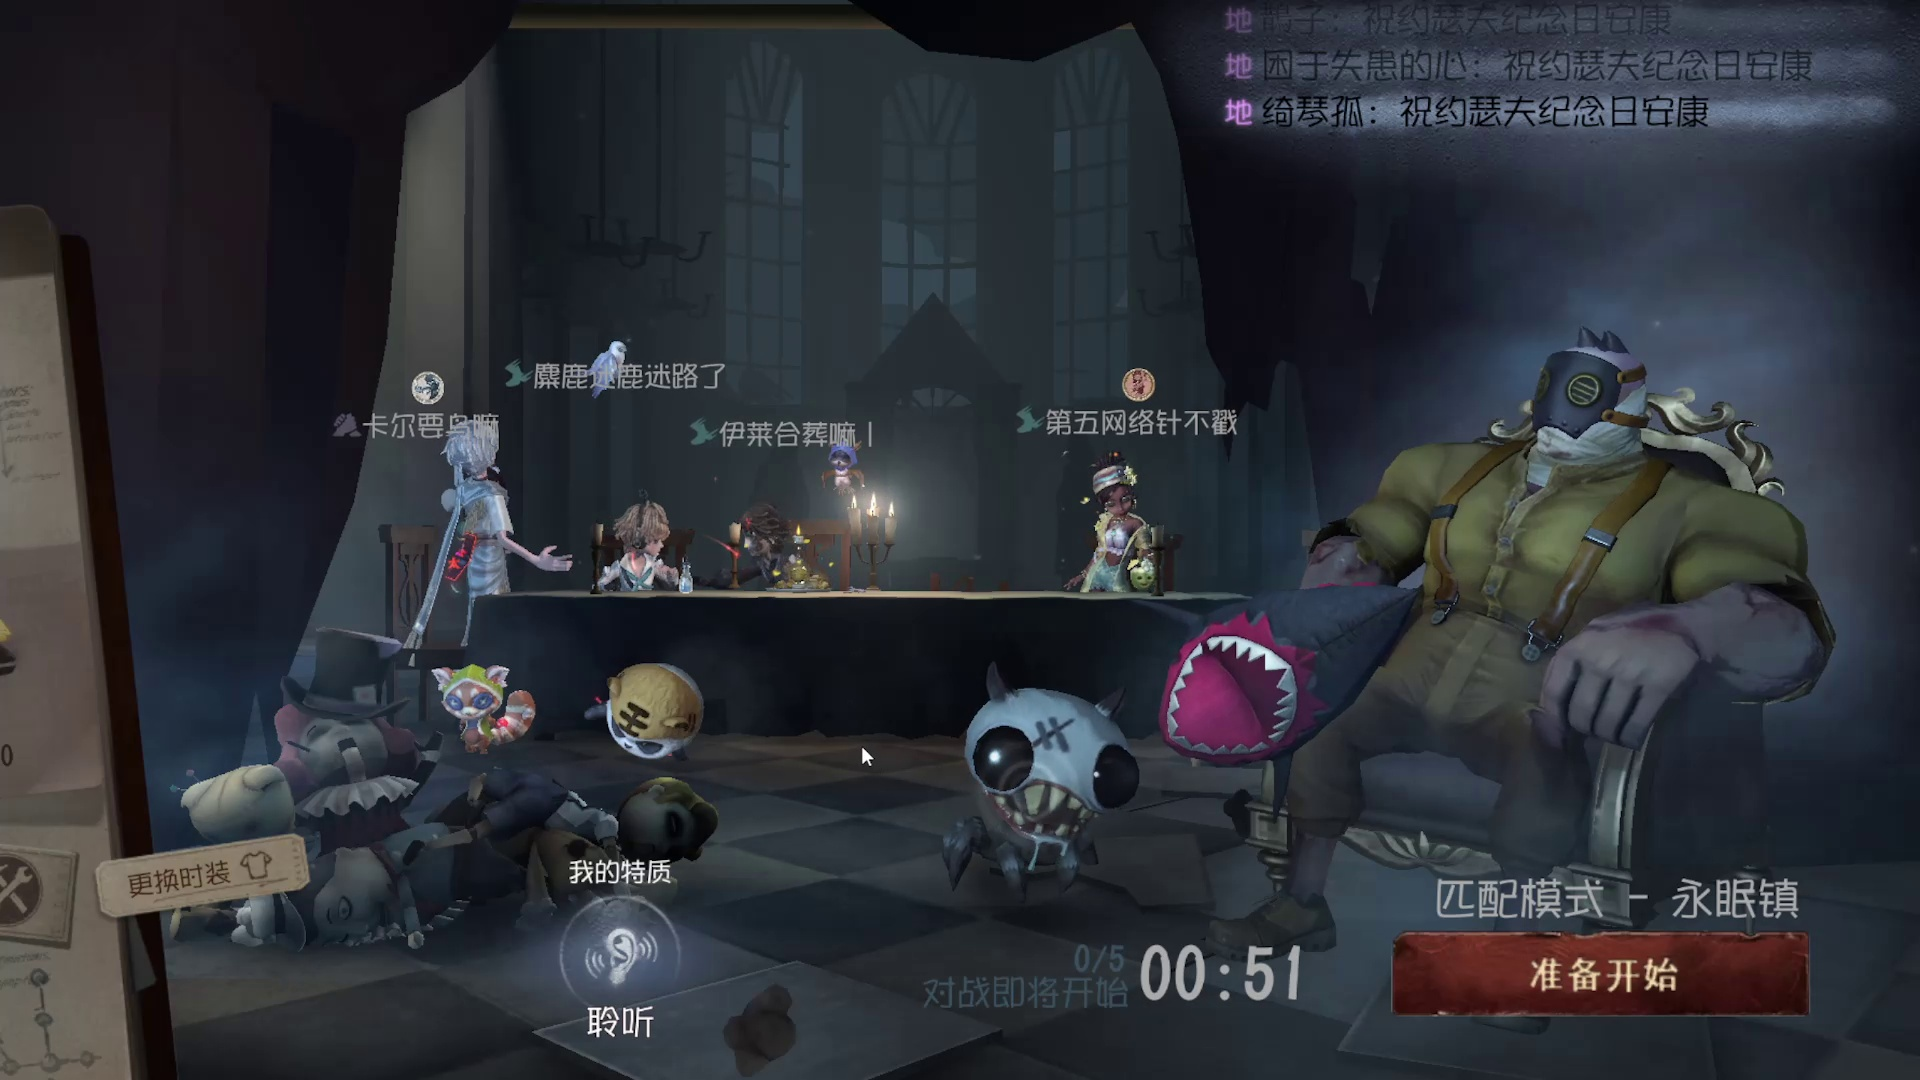准备开始: (1335, 884, 1842, 1036)
